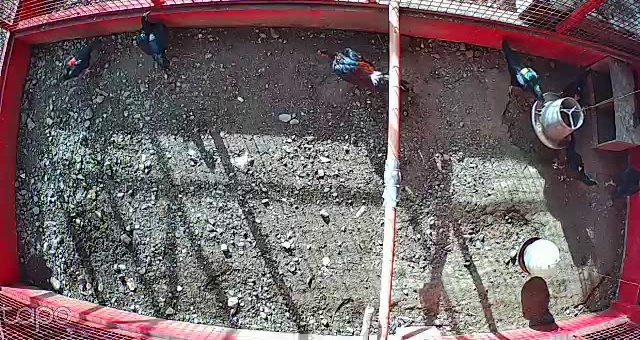Chicken: (493, 36, 547, 104), (545, 130, 596, 189), (51, 34, 109, 85), (133, 10, 177, 74), (603, 160, 640, 199), (560, 67, 597, 103)
Rooster: (313, 39, 414, 102)
Saddle_Color_Red: (67, 57, 76, 67)
Saddle_Color_Yellow: (577, 166, 583, 170)
Saddle_Color_YellowGreen: (521, 65, 531, 78)
